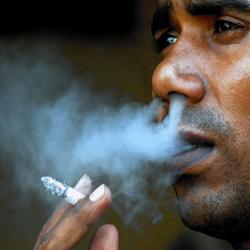smoking: (33, 170, 121, 250)
